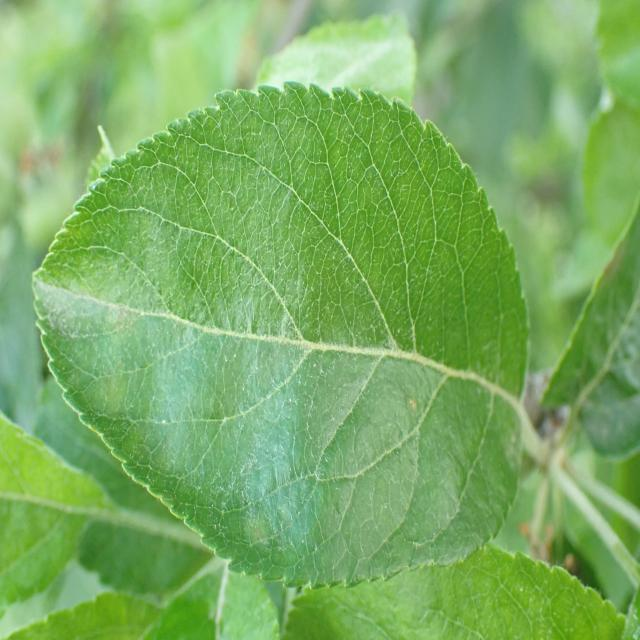scab: (49, 178, 507, 575)
